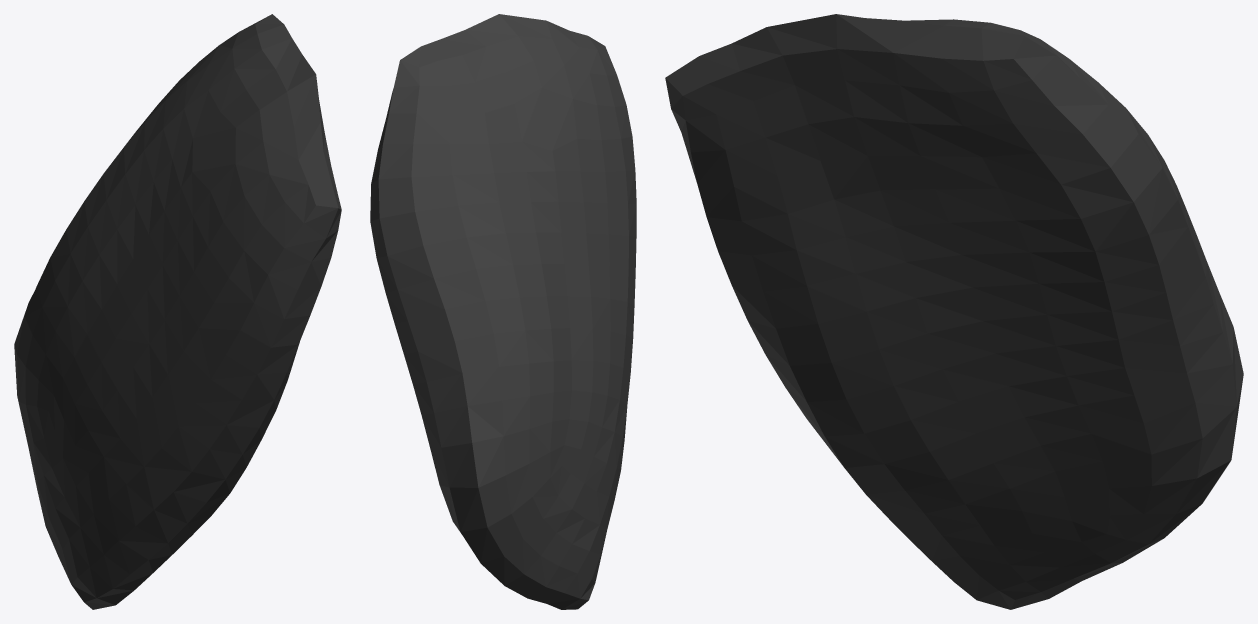
The model's file is masseter_deep.glb.
3 views of the same model, side by side, from view 1: azimuth 30°, elevation 25°; view 2: azimuth 150°, elevation 25°; view 3: azimuth 270°, elevation 25° (orthographic). The views are drawn at different scales.
Visible parts, largest first — view 1: masseter_deep; view 2: masseter_deep; view 3: masseter_deep.
Part boxes in pixels (left/top/right/bottom): masseter_deep: left=14, top=14, right=341, bottom=609; masseter_deep: left=370, top=14, right=636, bottom=609; masseter_deep: left=665, top=14, right=1243, bottom=609.
Size of the model in its own units: 0.2659 by 0.6684 by 0.5065.
1 material, 1 textured.
